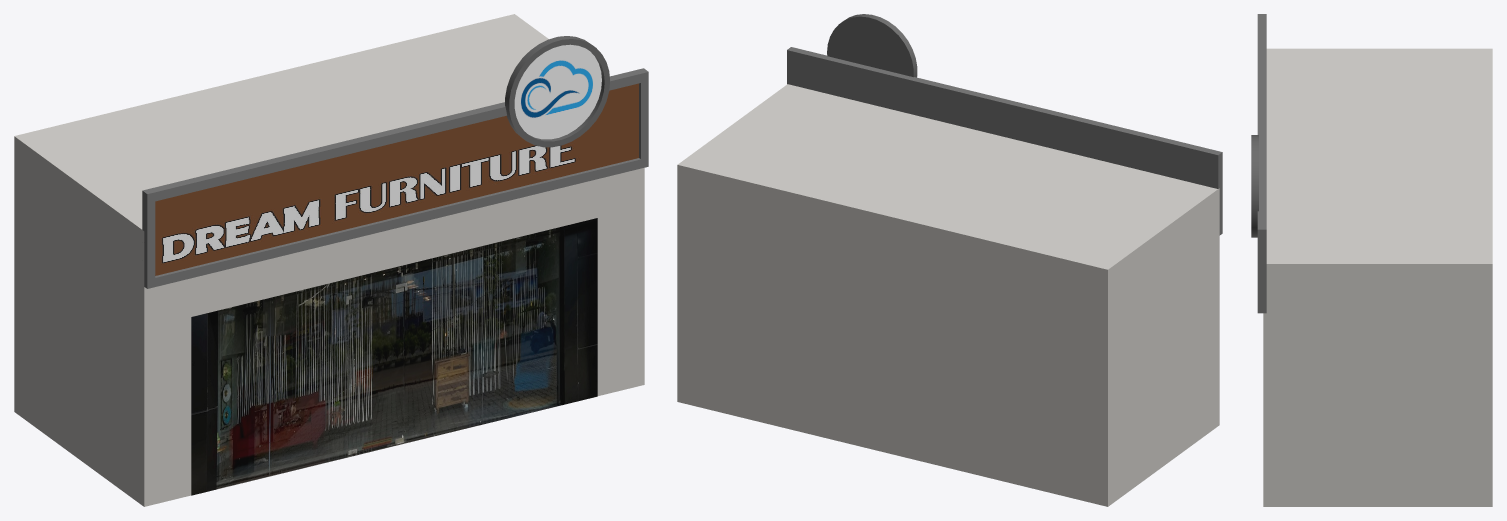
File: DREAM F.fbx
3 views of the same model, side by side, from view 1: azimuth 30°, elevation 25°; view 2: azimuth 150°, elevation 25°; view 3: azimuth 270°, elevation 25° (orthographic). The views are drawn at different scales.
Visible parts, largest first — view 1: pCube1, pPlane1, polySurface2, polySurface1, polySurface4, polySurface3; view 2: pCube1, polySurface1, polySurface3; view 3: pCube1, polySurface1, polySurface3.
Part boxes in pixels (x1,y1,x2,y2): pCube1: (14, 14, 644, 506); pPlane1: (191, 218, 597, 495); polySurface2: (155, 83, 638, 275); polySurface1: (142, 68, 648, 288); polySurface4: (514, 44, 601, 139); polySurface3: (505, 36, 609, 147); pCube1: (677, 84, 1219, 506); polySurface1: (787, 47, 1222, 235); polySurface3: (827, 14, 917, 77); pCube1: (1263, 48, 1492, 506); polySurface1: (1257, 14, 1266, 313); polySurface3: (1251, 135, 1258, 237).
Bounding box in the file's own units: 26.24 × 18.59 × 12.39.
